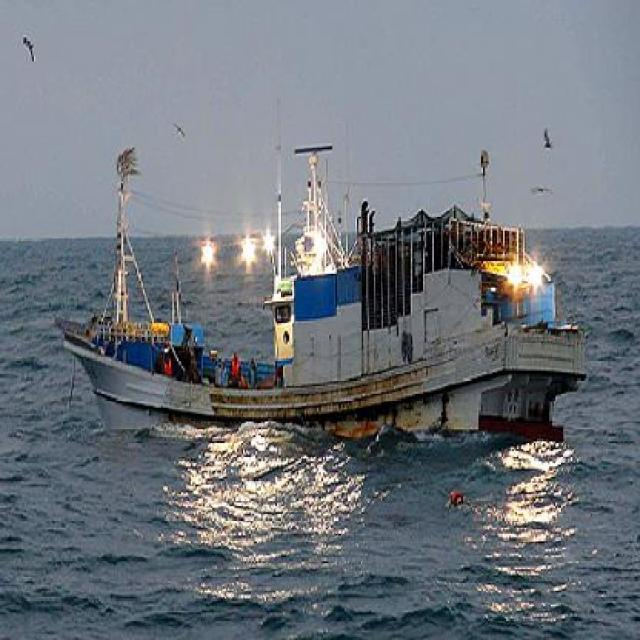Ship: (53, 141, 595, 454)
